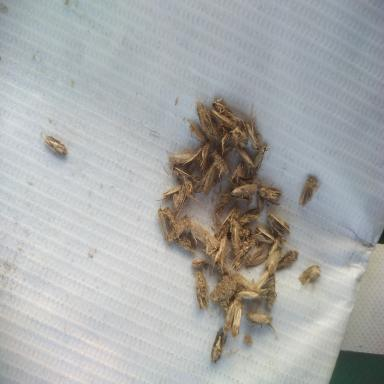pbw: (171, 182, 202, 218), (241, 103, 262, 152), (181, 139, 211, 173), (214, 203, 240, 239), (40, 124, 67, 156), (195, 99, 214, 142), (223, 295, 242, 338), (209, 325, 228, 368), (168, 213, 192, 245), (210, 234, 227, 277), (195, 268, 210, 314), (197, 164, 217, 198), (299, 176, 321, 206), (229, 242, 251, 271), (164, 206, 182, 240), (187, 219, 211, 244), (266, 210, 290, 234), (245, 244, 268, 269), (186, 118, 207, 145), (212, 97, 236, 120), (258, 185, 284, 206), (246, 310, 276, 328), (156, 183, 184, 202), (210, 108, 234, 130), (158, 207, 171, 247), (234, 143, 254, 169), (230, 218, 243, 257), (298, 264, 321, 286), (252, 142, 270, 170), (212, 150, 230, 176), (220, 123, 233, 157), (254, 268, 275, 289), (276, 249, 298, 269), (214, 191, 231, 216), (237, 208, 261, 224), (168, 151, 195, 165), (175, 237, 198, 253), (230, 184, 256, 197), (254, 224, 275, 240), (268, 234, 284, 255), (231, 159, 245, 181), (172, 166, 189, 184), (268, 271, 276, 309), (233, 290, 260, 300), (208, 112, 218, 139), (258, 178, 264, 213), (192, 259, 208, 266)
